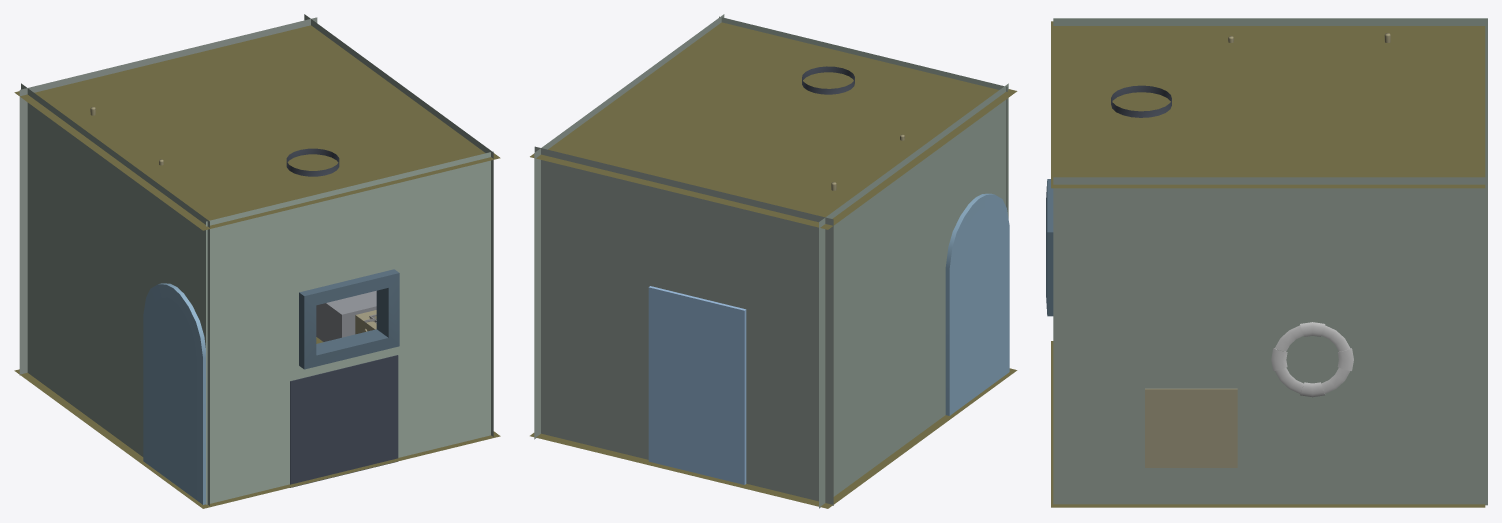
File: KrustyKitchen_mdl.fbx
3 renders of one model, left to right at view 1: azimuth 30°, elevation 25°; view 2: azimuth 150°, elevation 25°; view 3: azimuth 270°, elevation 25°, orthographic. The views are drawn at different scales.
Visible parts, largest first — view 1: pCube77, pPlane4, pPlane1, pCube78, Grill, pPipe4, pPlane3, pPlane5, pPlane2, pCube72, pCylinder11; view 2: pPlane3, pPlane4, pPlane1, pCube3, pCube78, pPlane2, pPlane5, pCube77, pCylinder11; view 3: pPlane2, pPlane4, Frier, pPlane1, pTorus1, pPlane5, pPipe4, pCylinder11.
Boxes of the visible parts, box(x1,y1,x2,y2) form: pCube77: box(206, 151, 493, 504); pPlane4: box(14, 25, 500, 230); pPlane1: box(21, 83, 209, 505); pCube78: box(143, 283, 205, 504); Grill: box(290, 355, 398, 487); pPipe4: box(299, 269, 399, 369); pPlane3: box(19, 17, 317, 375); pPlane5: box(14, 337, 500, 508); pPlane2: box(304, 14, 493, 436); pCube72: box(316, 290, 376, 341); pCylinder11: box(286, 148, 339, 176); pPlane3: box(534, 146, 833, 505); pPlane4: box(530, 22, 1017, 229); pPlane1: box(819, 83, 1008, 508); pCube3: box(648, 286, 746, 484); pCube78: box(945, 193, 1009, 415); pPlane2: box(534, 14, 724, 439); pPlane5: box(530, 368, 1017, 508); pCube77: box(719, 16, 1007, 211); pCylinder11: box(802, 66, 854, 94); pPlane2: box(1053, 177, 1487, 505); pPlane4: box(1051, 21, 1485, 188); Frier: box(1145, 388, 1237, 467); pPlane1: box(1053, 18, 1487, 177); pTorus1: box(1271, 322, 1353, 397); pPlane5: box(1051, 341, 1485, 507); pPipe4: box(1046, 179, 1053, 316); pCylinder11: box(1111, 85, 1171, 117).
Size of the model in its own units: 3.11 by 2.88 by 3.48.
